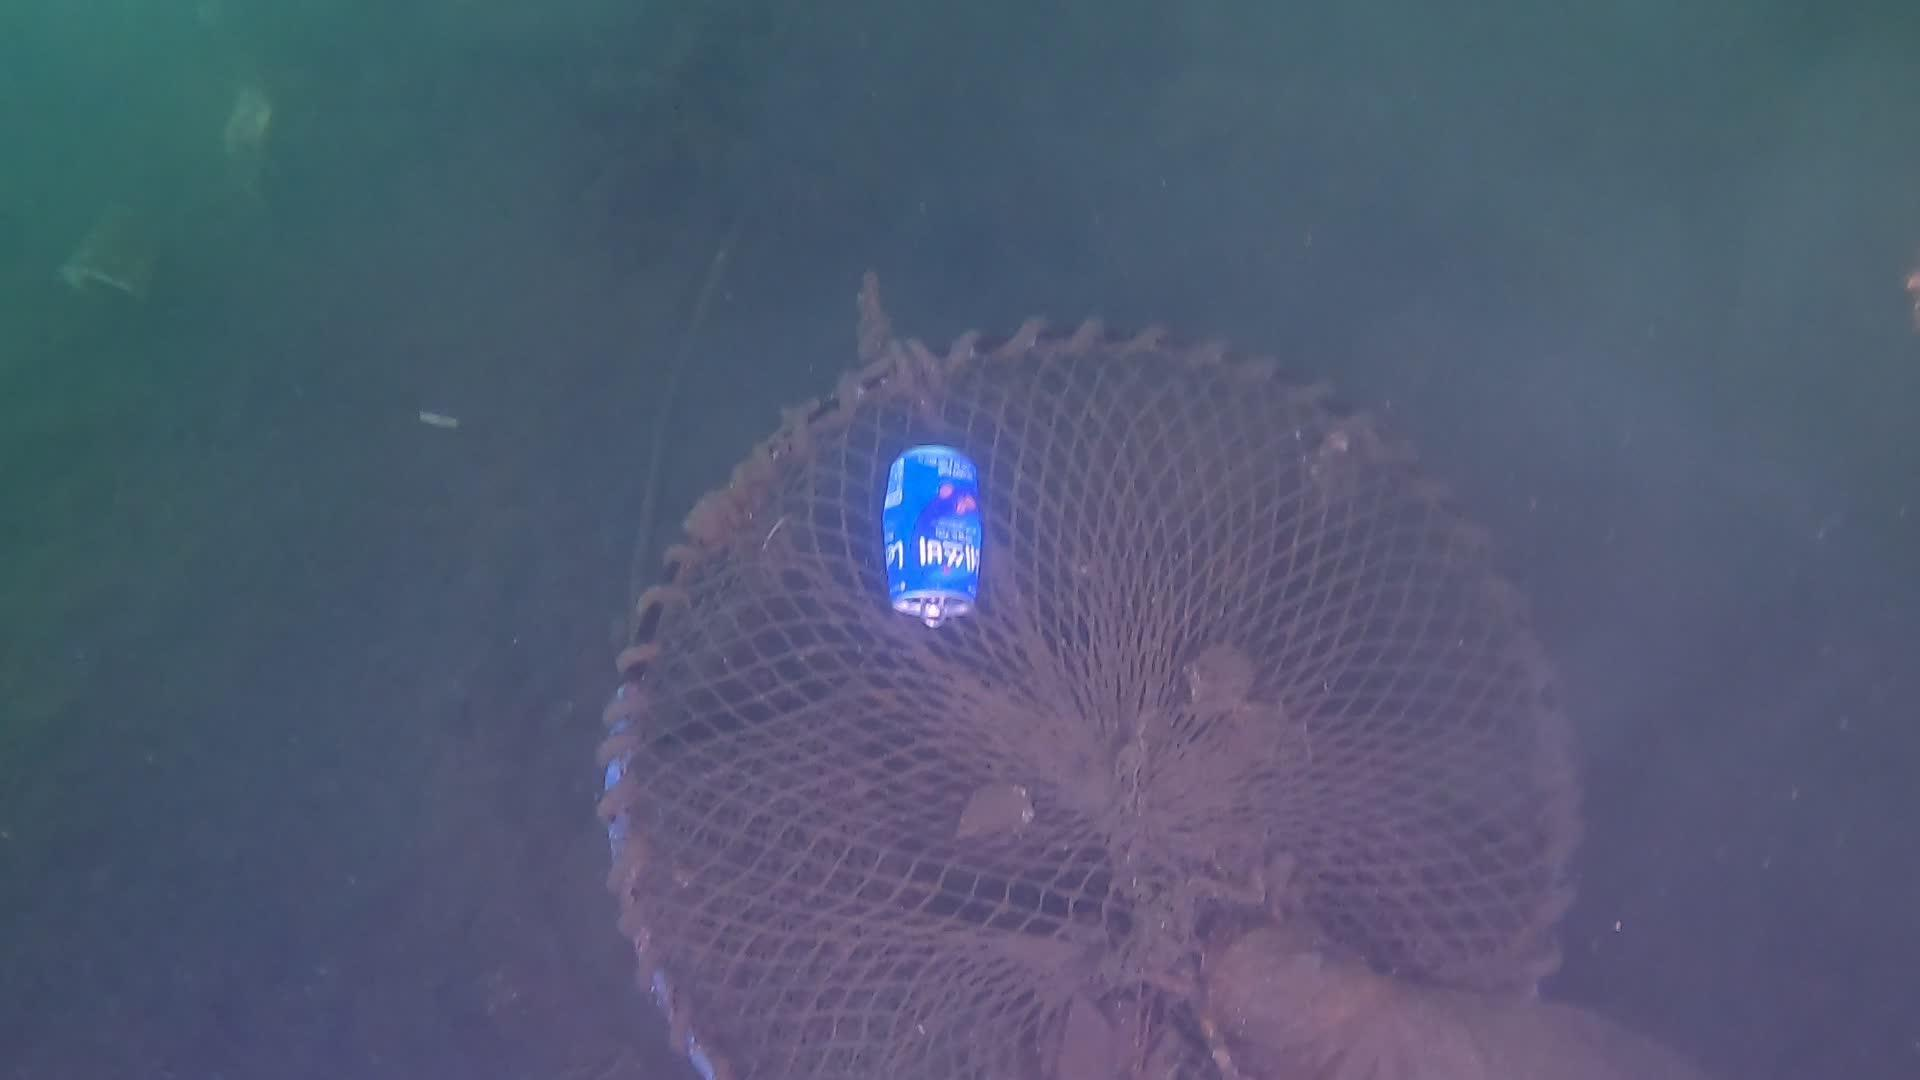circular fish trap: (595, 313, 1596, 1080)
